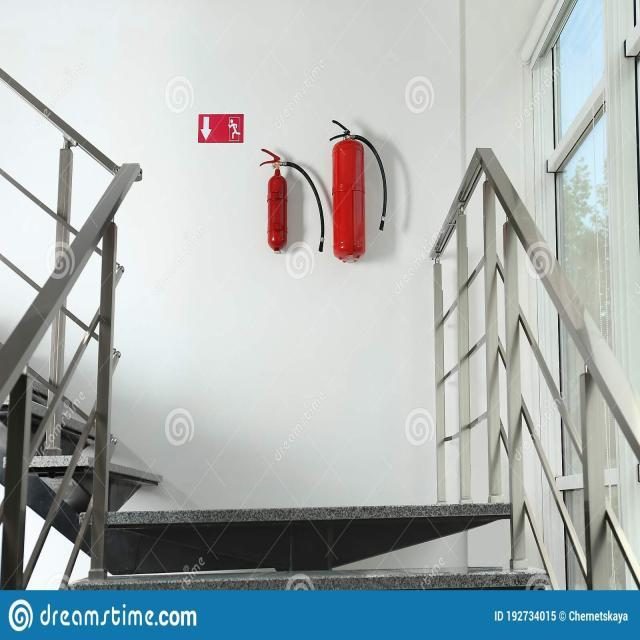fire_extinguisher: (328, 113, 392, 265), (255, 144, 328, 264)
